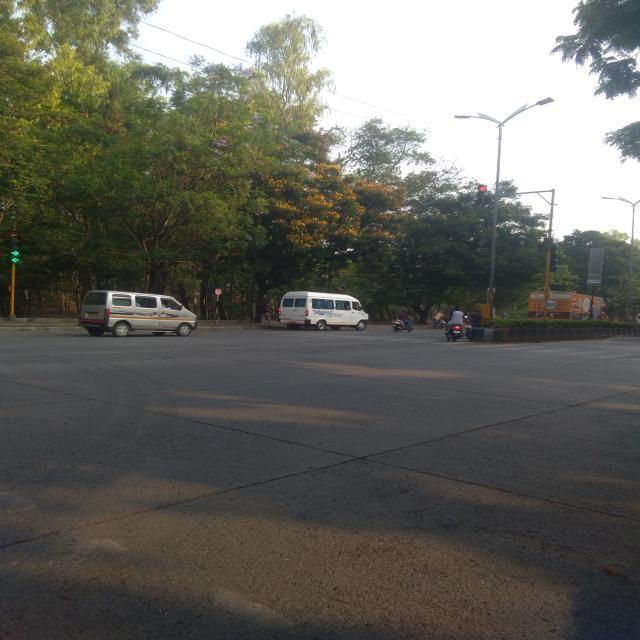car_back: (78, 284, 204, 346), (277, 288, 370, 336)
two_wheeler_back: (436, 313, 473, 346), (390, 316, 415, 333)
